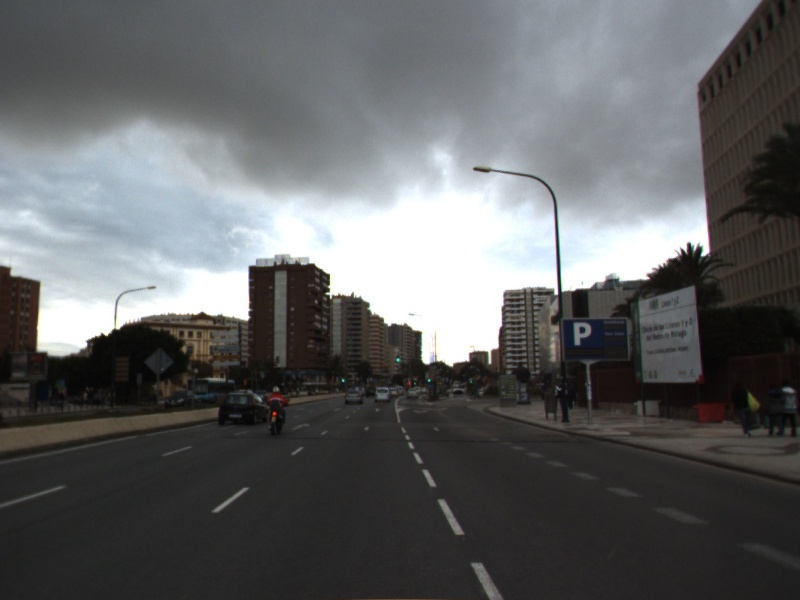STRAIGHT: (289, 421, 312, 433)
